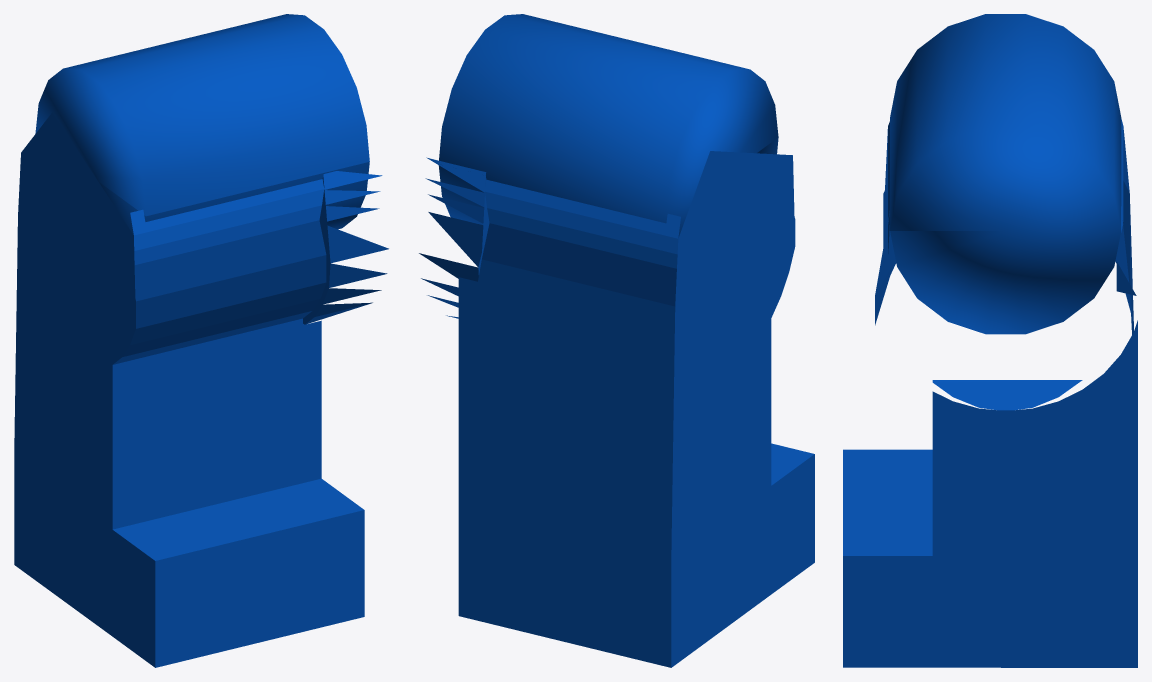
Rendered from legL.glb.
The picture shows the model from 3 angles, left to right: view 1: azimuth 30°, elevation 25°; view 2: azimuth 150°, elevation 25°; view 3: azimuth 270°, elevation 25°; orthographic projection. The views are drawn at different scales.
Visible parts, largest first — view 1: pip_legL; view 2: pip_legL; view 3: pip_legL.
Boxes of the visible parts, left/top/right/bottom form: pip_legL: left=14, top=14, right=388, bottom=667; pip_legL: left=419, top=14, right=814, bottom=667; pip_legL: left=843, top=14, right=1137, bottom=667.
Bounding box in the file's own units: 0.3561 × 0.7237 × 0.3488.
